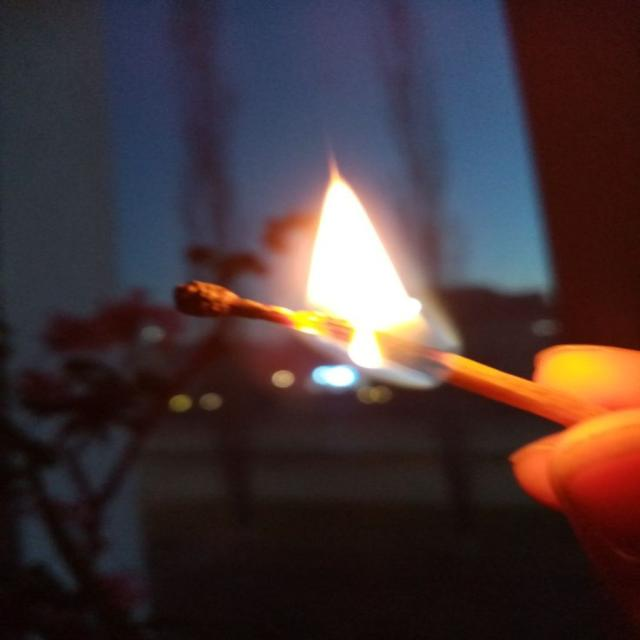fire: (306, 148, 462, 389)
